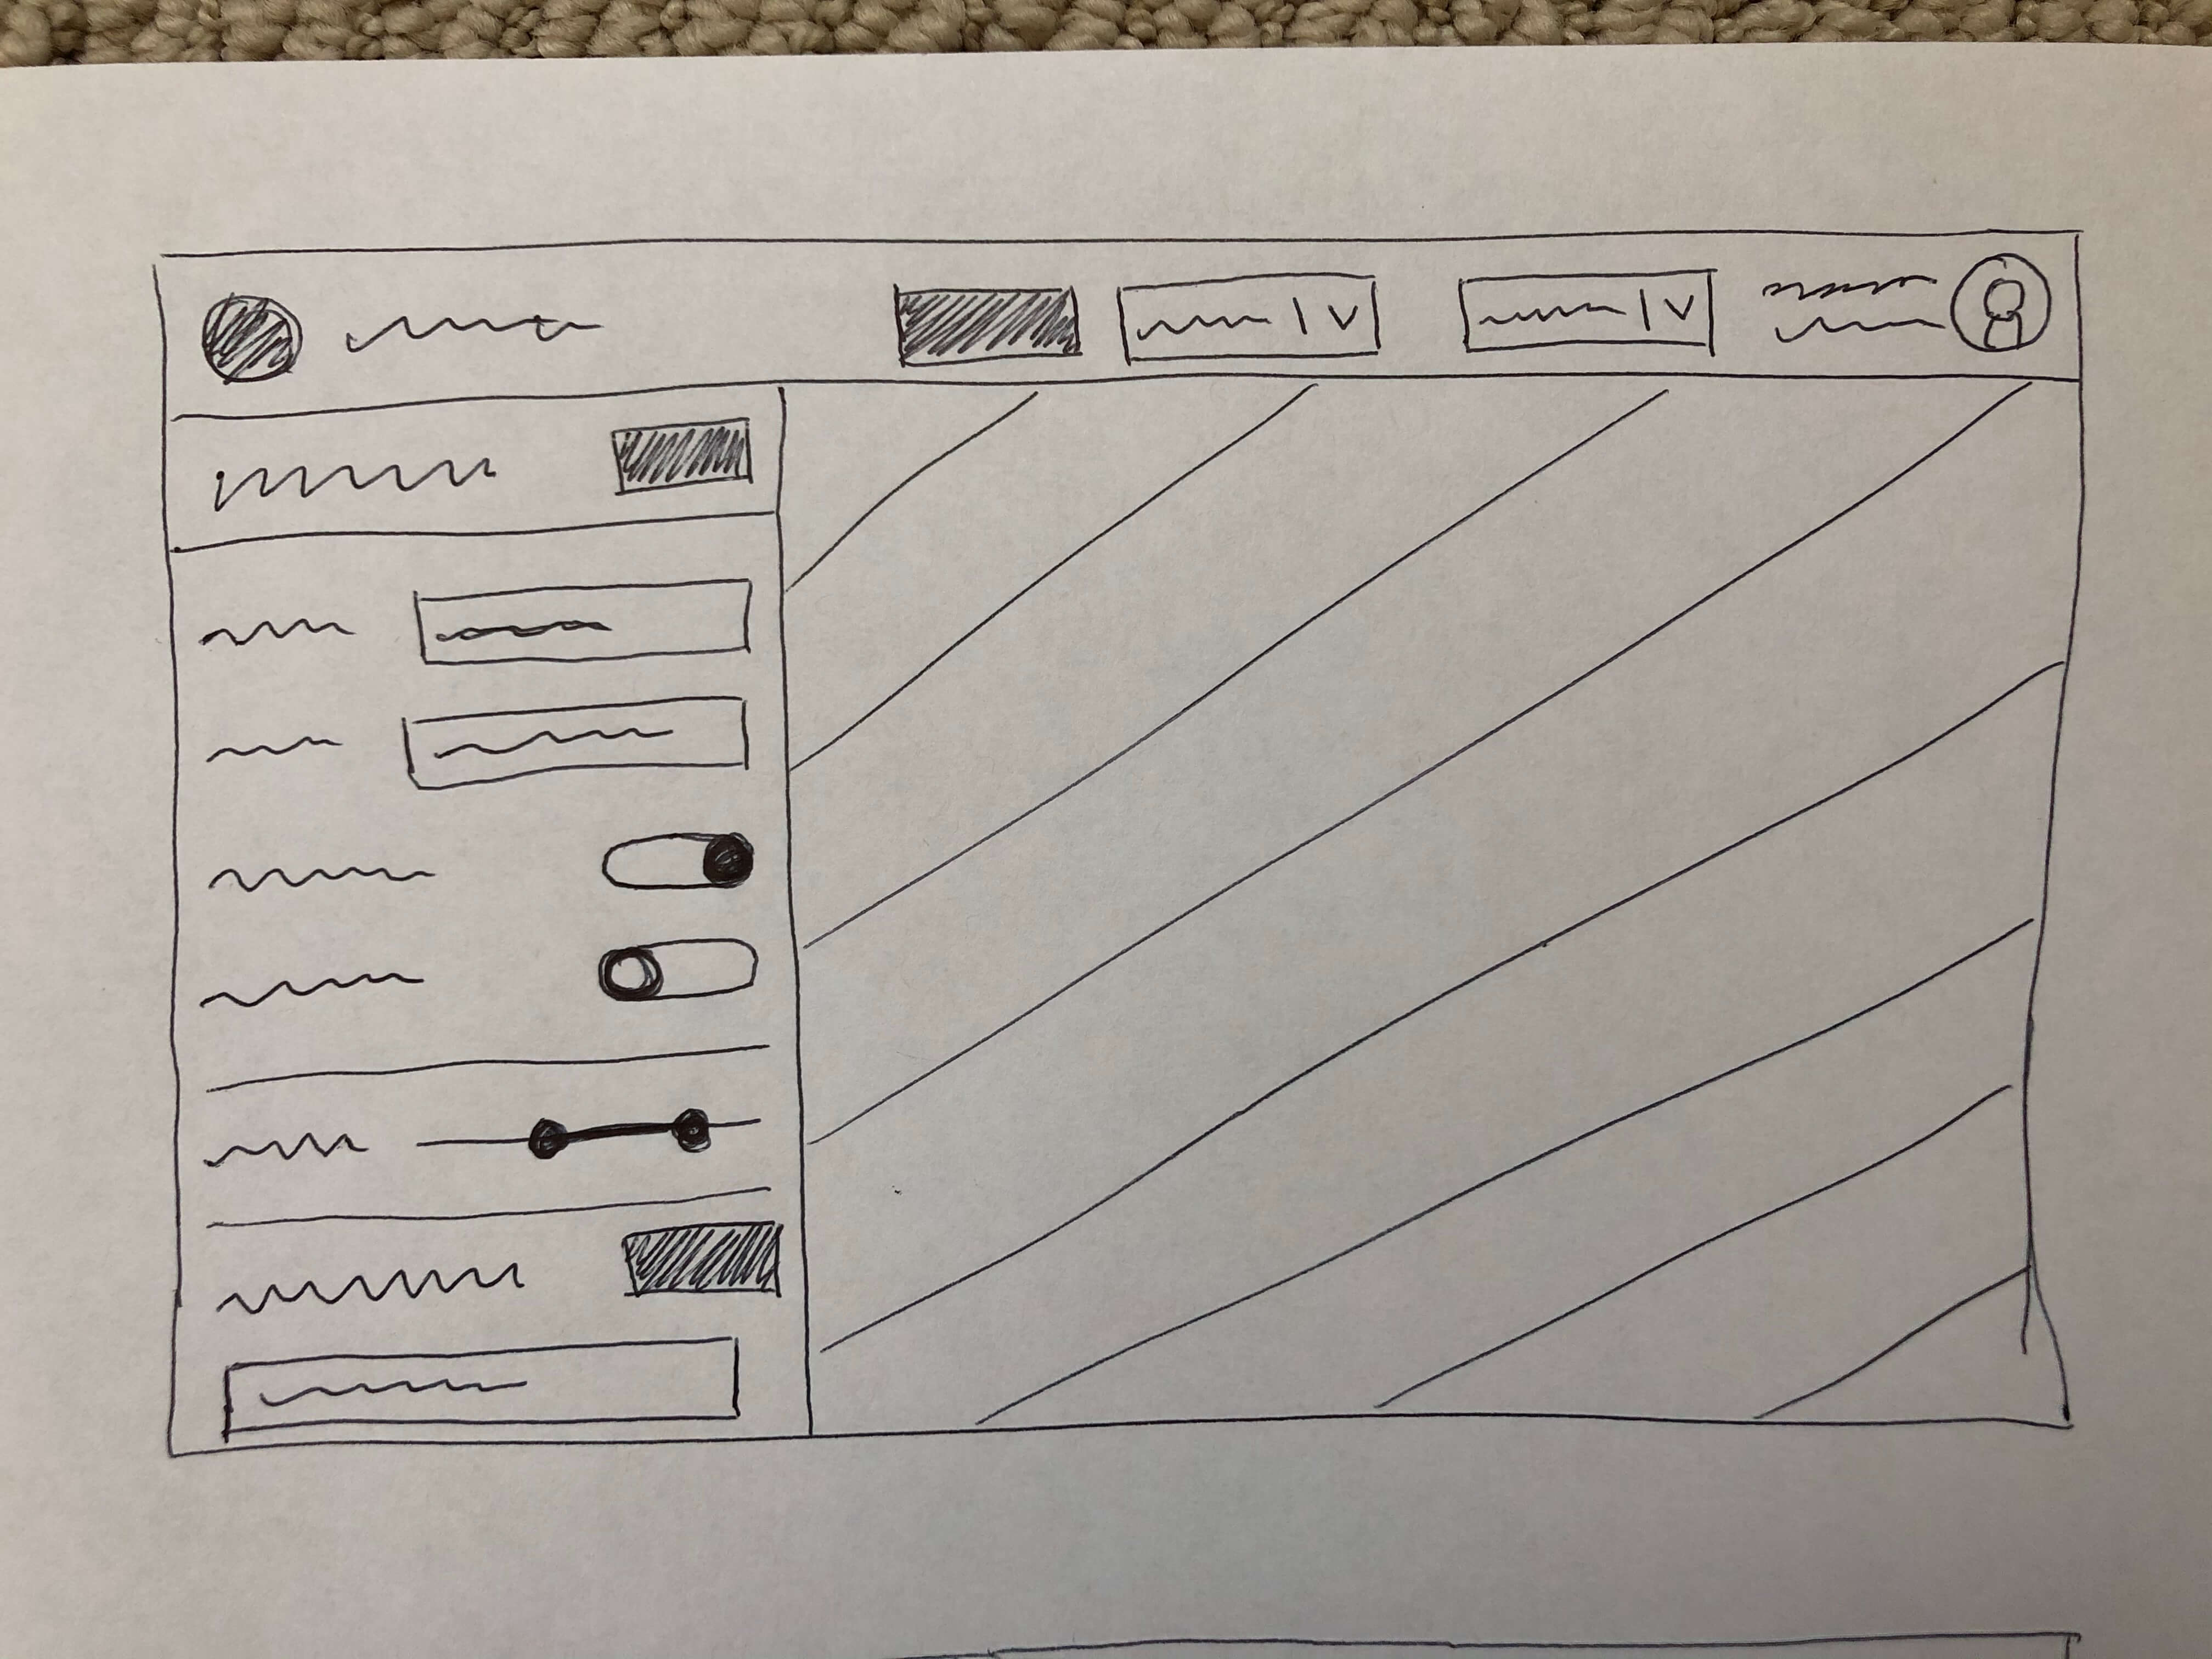avatar: (1756, 251, 2057, 371)
button: (878, 270, 1090, 373), (611, 1216, 789, 1309), (603, 416, 759, 502)
input: (218, 1335, 751, 1434), (392, 690, 759, 795), (402, 575, 758, 667)
map: (773, 373, 2092, 1445)
slider: (406, 1105, 770, 1168)
split-button: (1108, 261, 1395, 373), (1451, 260, 1728, 362)
switch: (589, 929, 765, 1012), (594, 819, 759, 903)
